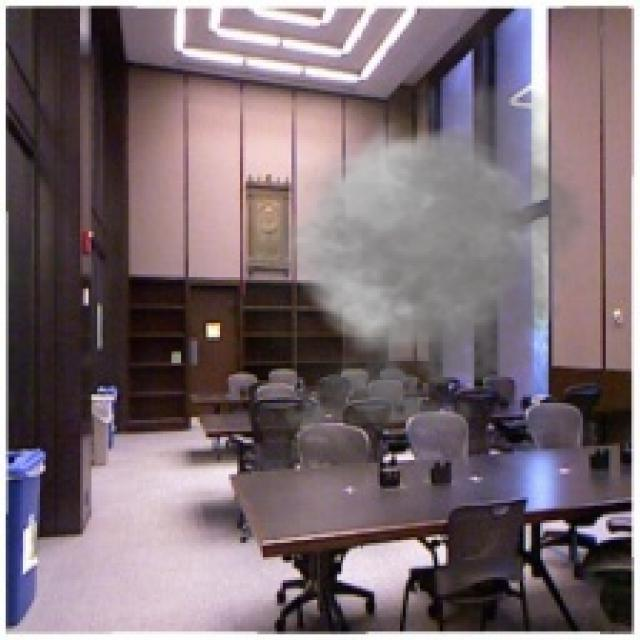Smoke: (220, 69, 614, 458)
